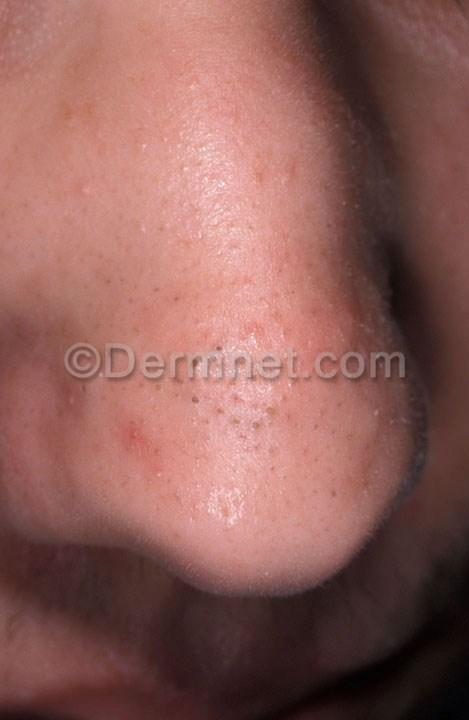Acne: (180, 378, 316, 438), (104, 414, 164, 480), (202, 326, 270, 362)
